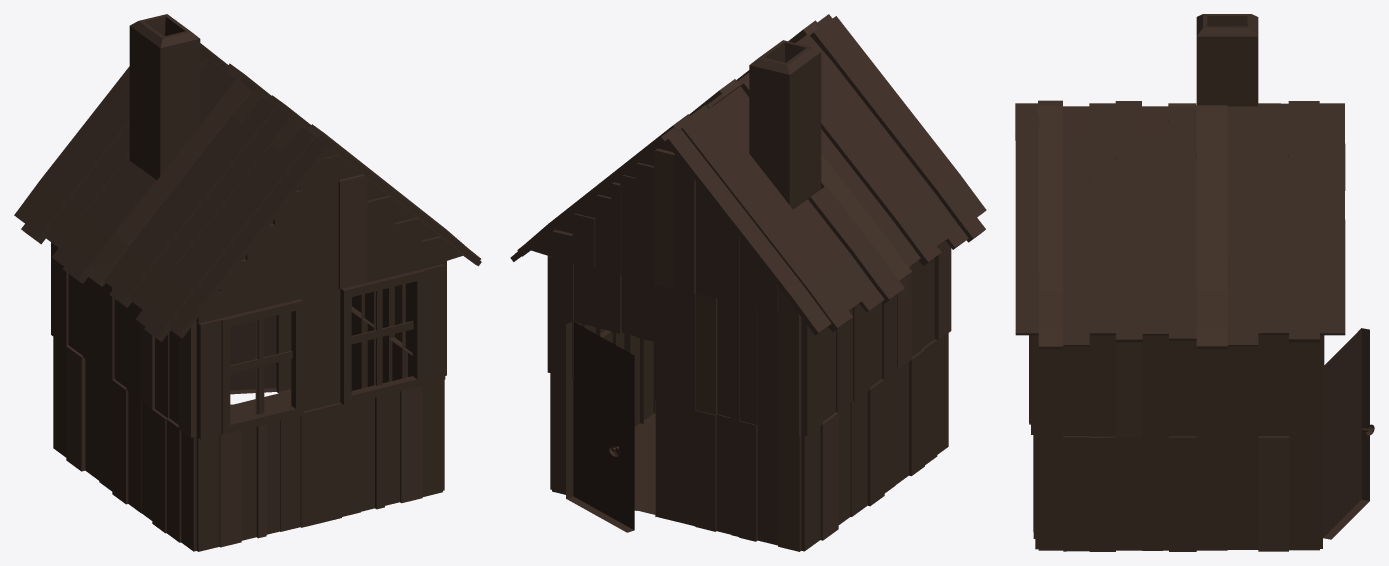
The model's file is house.fbx.
The picture shows the model from 3 angles, left to right: view 1: azimuth 30°, elevation 25°; view 2: azimuth 150°, elevation 25°; view 3: azimuth 270°, elevation 25°; orthographic projection.
Parts seen in each view (by area): view 1: Cube, Cylinder; view 2: Cube, Cylinder; view 3: Cube, Cylinder.
Part boxes in pixels (x1,y1,x2,y2): Cube: (14, 14, 481, 551); Cylinder: (230, 315, 276, 394); Cube: (510, 14, 986, 551); Cylinder: (566, 322, 634, 532); Cube: (1015, 14, 1345, 551); Cylinder: (1323, 328, 1374, 539).
Bounding box in the file's own units: 2000 × 2589 × 1917.
